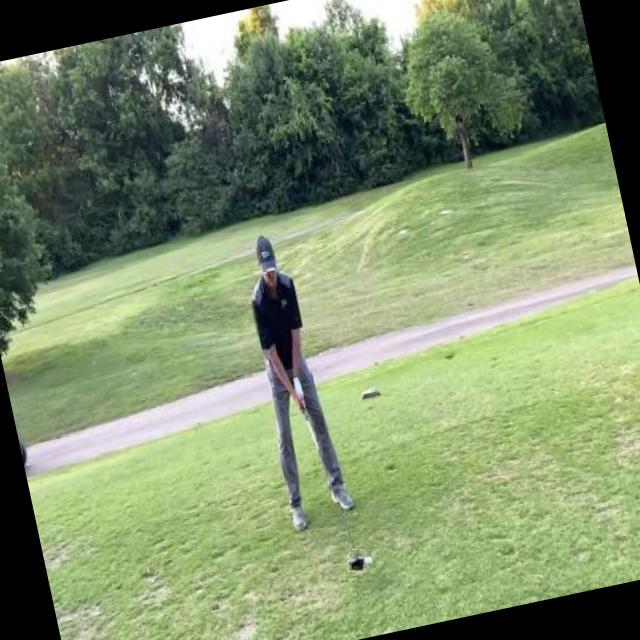club head: (346, 547, 368, 574)
